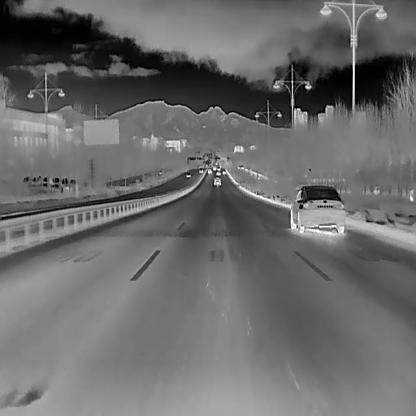car: (289, 185, 345, 234), (212, 177, 221, 186), (198, 167, 203, 173), (186, 171, 191, 176), (208, 168, 212, 174), (216, 165, 220, 170), (216, 170, 220, 175), (222, 169, 226, 174)
